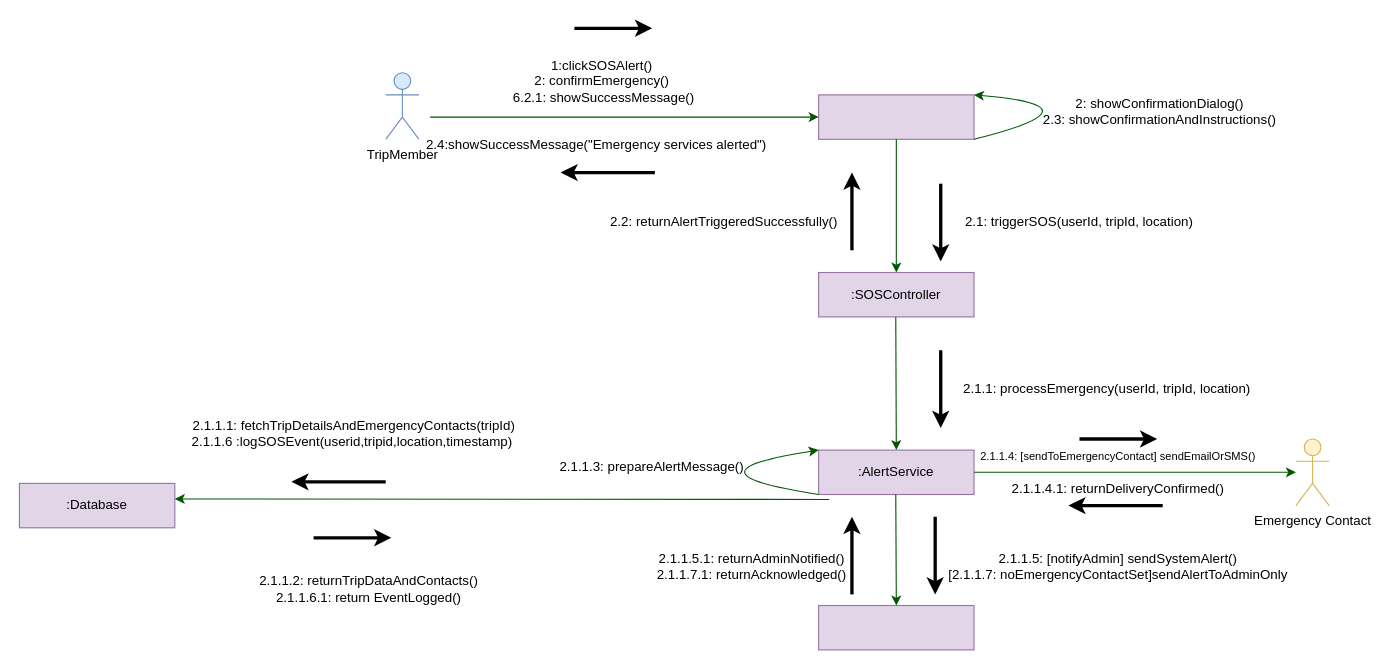
The diagram is 1390 pixels wide and 669 high, and some of its shapes have lost their labels. The shapes that lost their labels are listed below. From the top down, each one's centre as x and y in pixels, then its label:
At (896,116): ":TripDashboard".
At (896,627): ":SystemAdmin".
